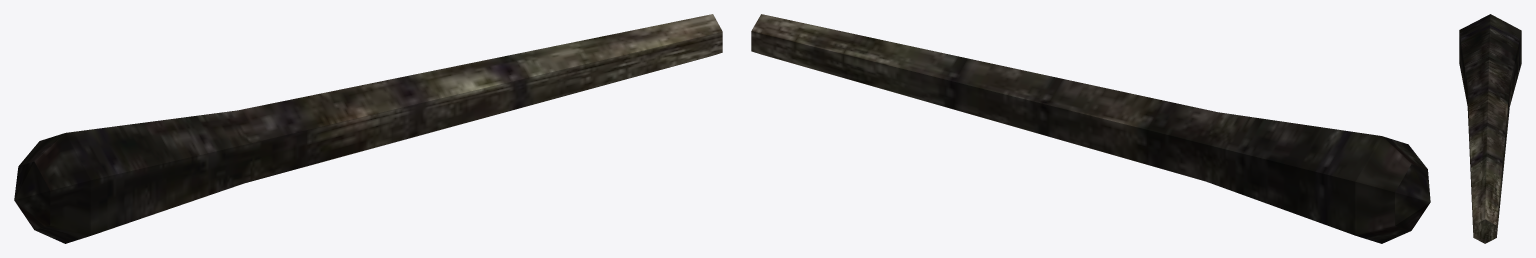
Rendered from ITLS_TORCH_01.glb.
The picture shows the model from 3 angles, left to right: view 1: azimuth 30°, elevation 25°; view 2: azimuth 150°, elevation 25°; view 3: azimuth 270°, elevation 25°; orthographic projection. The views are drawn at different scales.
Visible parts, largest first — view 1: ITLS_TORCH_01; view 2: ITLS_TORCH_01; view 3: ITLS_TORCH_01.
Part boxes in pixels (left/top/right/bottom): ITLS_TORCH_01: left=14, top=14, right=722, bottom=243; ITLS_TORCH_01: left=751, top=14, right=1430, bottom=243; ITLS_TORCH_01: left=1459, top=14, right=1521, bottom=243.
Size of the model in its own units: 0.5531 by 0.0846 by 0.0732.
1 material, 1 textured.
